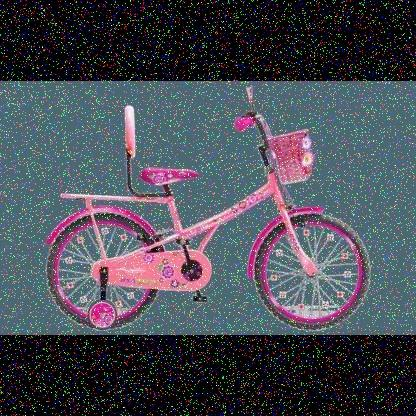Bicycle: (35, 79, 379, 329)
